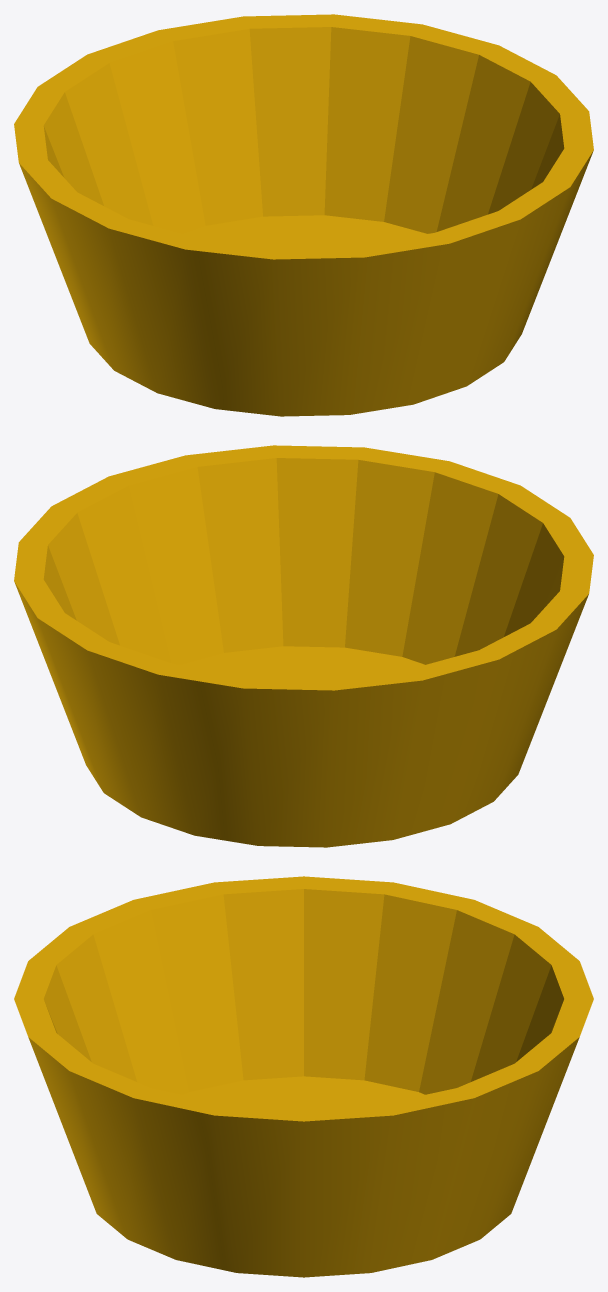
Rendered from tuy.fbx.
3 renders of one model, top to bottom at view 1: azimuth 30°, elevation 25°; view 2: azimuth 150°, elevation 25°; view 3: azimuth 270°, elevation 25°, orthographic.
Parts seen in each view (by area): view 1: pCylinder23; view 2: pCylinder23; view 3: pCylinder23.
Part boxes in pixels (bbox=[...]): pCylinder23: bbox=[14, 14, 593, 416]; pCylinder23: bbox=[14, 445, 593, 847]; pCylinder23: bbox=[14, 876, 593, 1277].
Bounding box in the file's own units: 1.57 × 0.5569 × 1.57.
